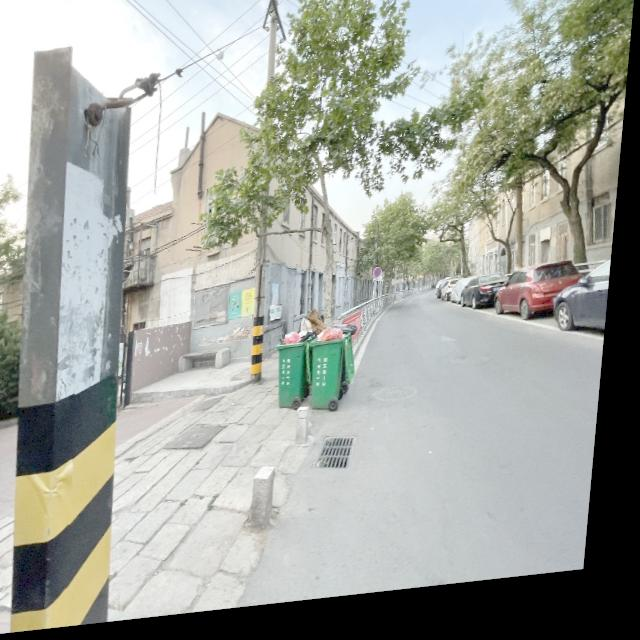overflow: (311, 334, 365, 419), (278, 337, 322, 417)
